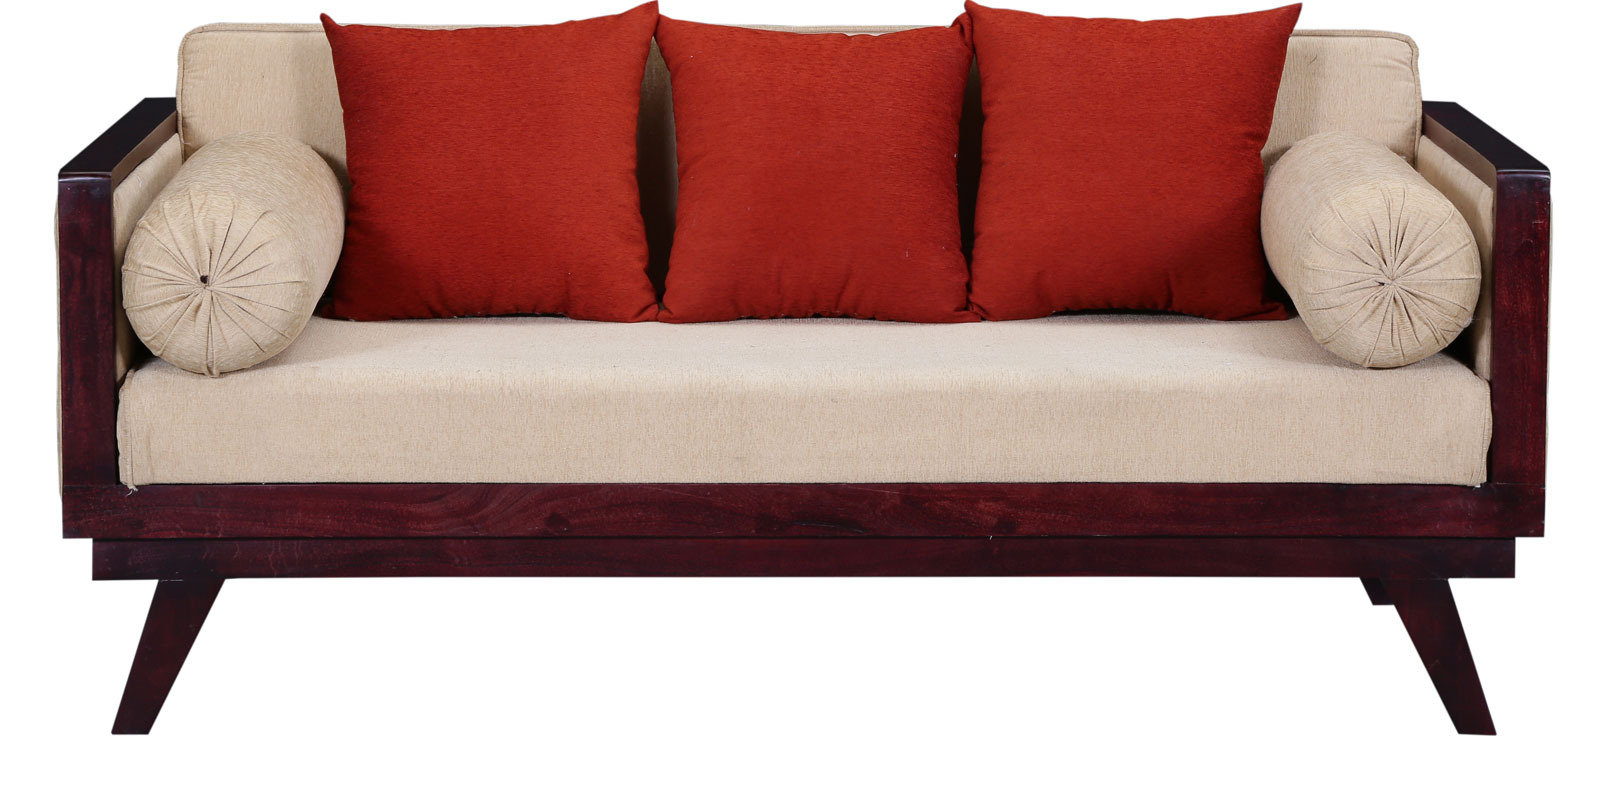Barnes Three Seater Sofa with Cushions in Passion Mahogany Finish by Woodsworth: (52, 1, 1571, 767)
